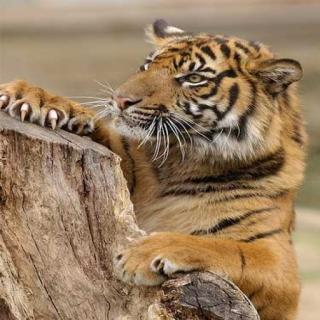Tiger: (0, 17, 314, 306)
